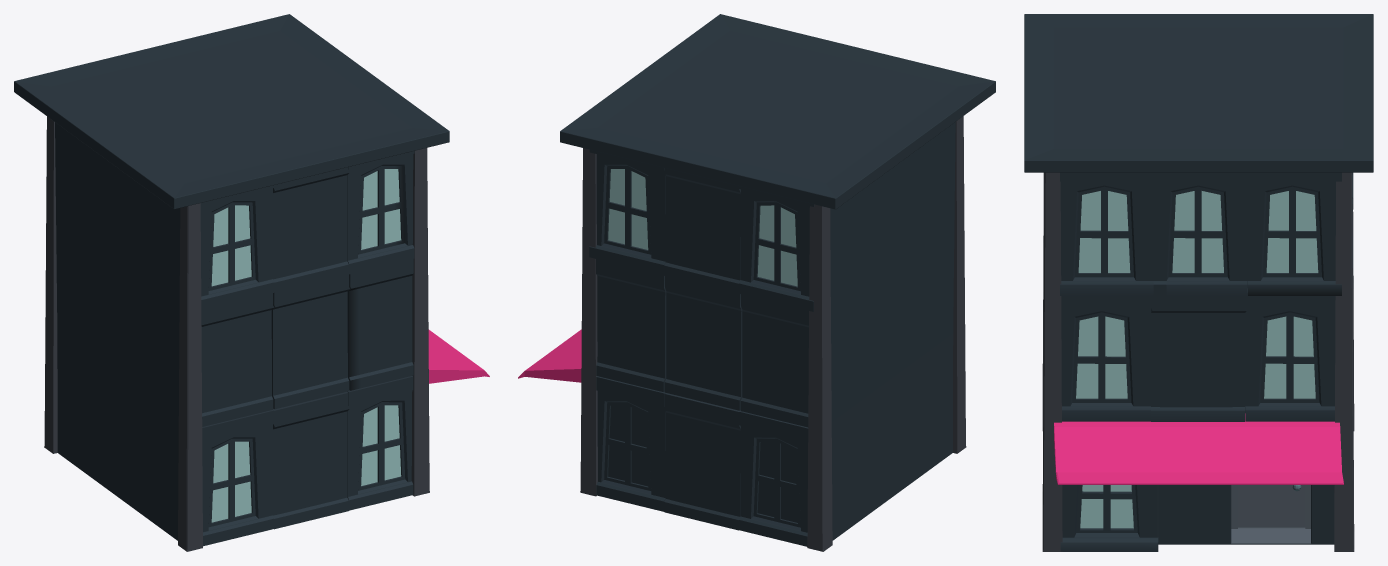
The model's file is ShortBuilding.fbx.
3 views of the same model, side by side, from view 1: azimuth 30°, elevation 25°; view 2: azimuth 150°, elevation 25°; view 3: azimuth 270°, elevation 25° (orthographic). The views are drawn at different scales.
Visible parts, largest first — view 1: AweenBuillding; view 2: AweenBuillding; view 3: AweenBuillding.
Part boxes in pixels (<box>): AweenBuillding: <box>14,14,489,551</box>; AweenBuillding: <box>518,14,995,551</box>; AweenBuillding: <box>1024,14,1373,551</box>.
Size of the model in its own units: 868 by 914 by 727.
